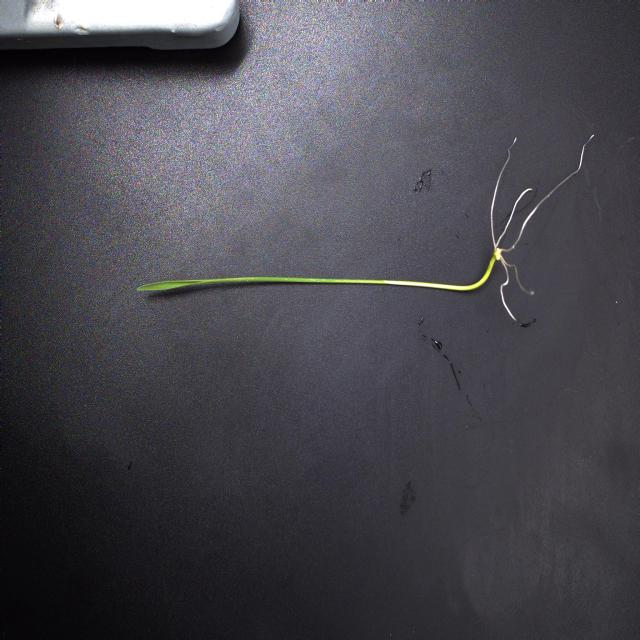leaf: (137, 277, 384, 293)
root: (488, 138, 588, 323), (581, 128, 601, 156)
stem: (383, 251, 500, 291)
